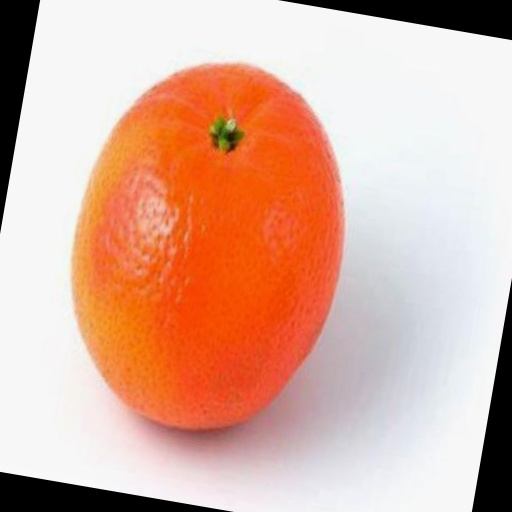fruit: (0, 114, 159, 489)
